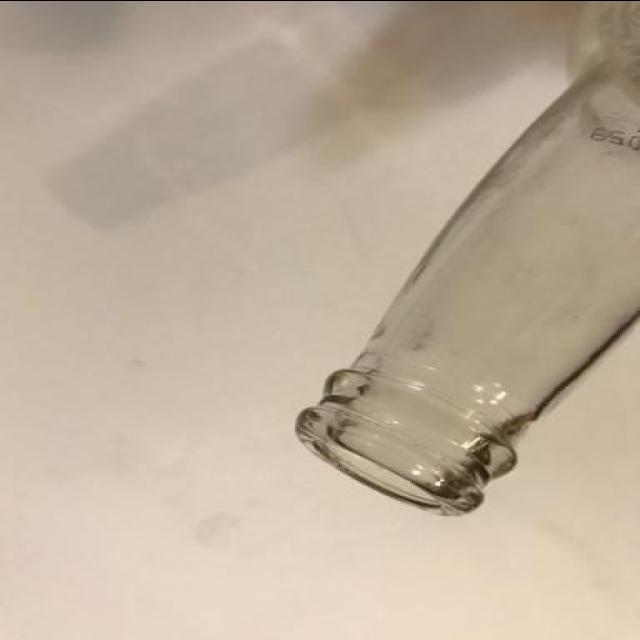glass: (290, 0, 638, 530)
